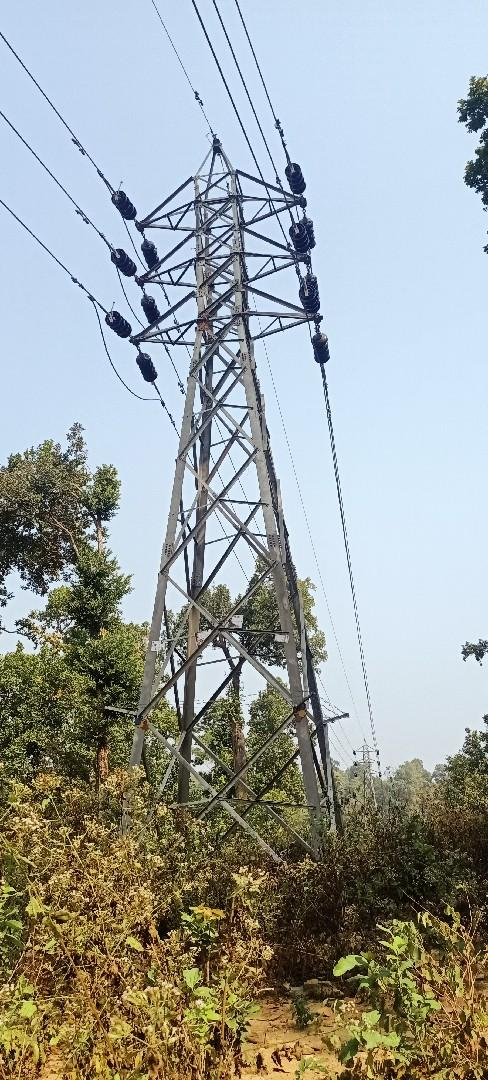GSM Antenna: (82, 130, 359, 772)
